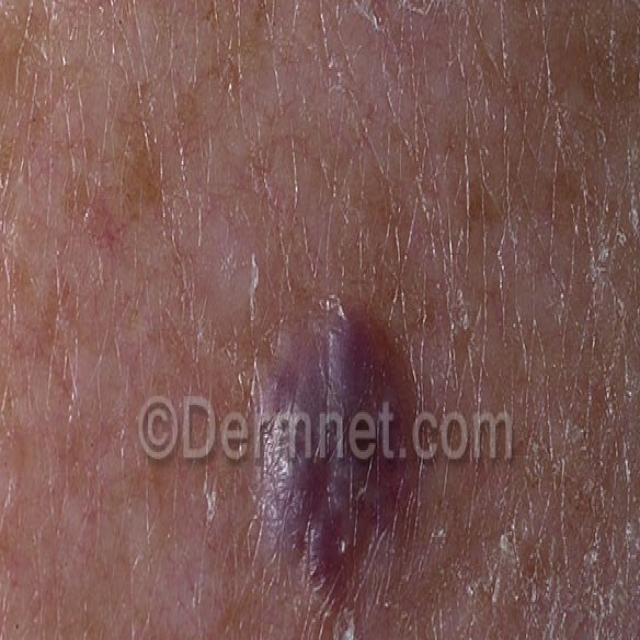Vascular Tumors: (212, 276, 472, 640)
